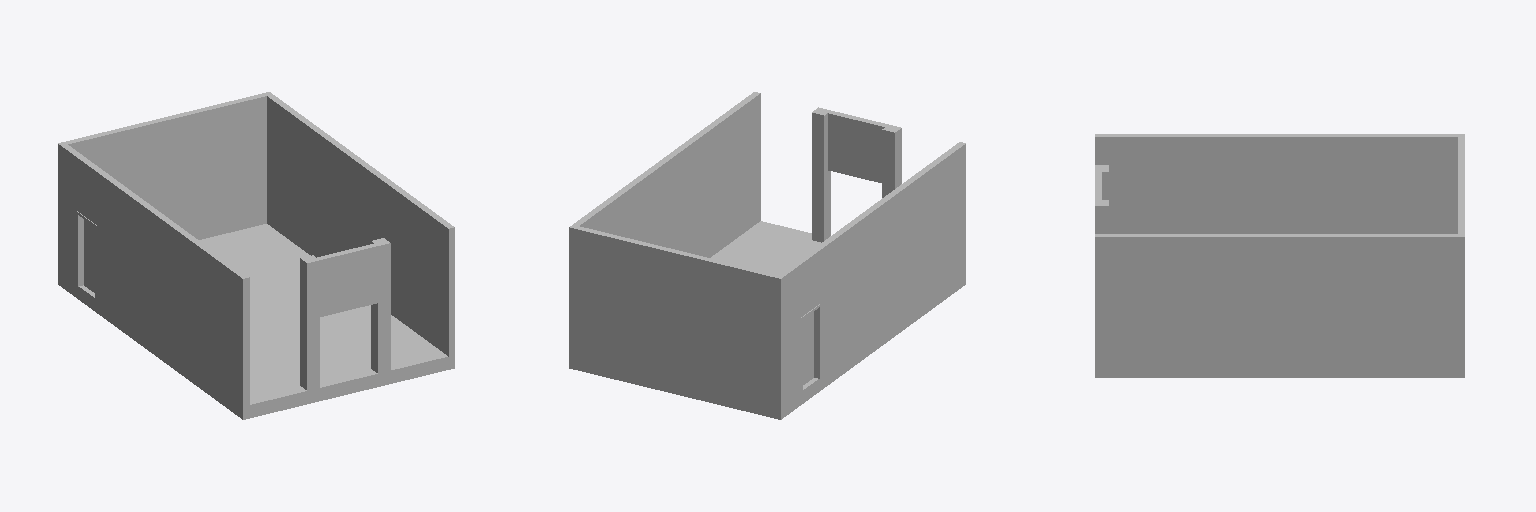
File: Walls-test.obj
3 views of the same model, side by side, from view 1: azimuth 30°, elevation 25°; view 2: azimuth 150°, elevation 25°; view 3: azimuth 270°, elevation 25° (orthographic).
Visible parts, largest first — view 1: Basic_Wall_Generic___200mm__368621_, Basic_Wall_Generic___200mm__368647_, Floor_Generic_Floor___400mm__322617_, Basic_Wall_Generic___200mm__322698_, Basic_Wall_Generic___200mm__324268_, Basic_Wall_Generic___375mm__368629_, Basic_Wall_Generic___375mm__368655_, M_Single_Flush_0915_x_2134mm__371596_; view 2: Basic_Wall_Generic___200mm__322698_, Basic_Wall_Generic___200mm__368621_, Basic_Wall_Generic___200mm__368647_, Floor_Generic_Floor___400mm__322617_, Basic_Wall_Generic___200mm__324268_, Basic_Wall_Generic___375mm__368655_, Basic_Wall_Generic___375mm__368629_, M_Single_Flush_0915_x_2134mm__371596_; view 3: Basic_Wall_Generic___200mm__368647_, Basic_Wall_Generic___200mm__368621_, Floor_Generic_Floor___400mm__322617_, M_Single_Flush_0915_x_2134mm__371596_, Basic_Wall_Generic___200mm__322698_.
Boxes of the visible parts, x1,y1,x2,y2 form: Basic_Wall_Generic___200mm__368621_: [62, 145, 249, 406]; Basic_Wall_Generic___200mm__368647_: [267, 95, 454, 356]; Floor_Generic_Floor___400mm__322617_: [58, 224, 454, 419]; Basic_Wall_Generic___200mm__322698_: [58, 92, 272, 273]; Basic_Wall_Generic___200mm__324268_: [317, 244, 377, 316]; Basic_Wall_Generic___375mm__368629_: [300, 255, 319, 390]; Basic_Wall_Generic___375mm__368655_: [371, 238, 390, 373]; M_Single_Flush_0915_x_2134mm__371596_: [77, 211, 96, 299]; Basic_Wall_Generic___200mm__322698_: [569, 225, 784, 406]; Basic_Wall_Generic___200mm__368621_: [778, 142, 965, 402]; Basic_Wall_Generic___200mm__368647_: [573, 92, 760, 257]; Floor_Generic_Floor___400mm__322617_: [569, 221, 965, 419]; Basic_Wall_Generic___200mm__324268_: [828, 111, 888, 182]; Basic_Wall_Generic___375mm__368655_: [812, 107, 830, 242]; Basic_Wall_Generic___375mm__368629_: [882, 125, 901, 197]; M_Single_Flush_0915_x_2134mm__371596_: [801, 304, 820, 391]; Basic_Wall_Generic___200mm__368647_: [1095, 234, 1457, 364]; Basic_Wall_Generic___200mm__368621_: [1095, 134, 1457, 233]; Floor_Generic_Floor___400mm__322617_: [1095, 365, 1464, 377]; M_Single_Flush_0915_x_2134mm__371596_: [1386, 191, 1425, 233]; Basic_Wall_Generic___200mm__322698_: [1458, 134, 1464, 364].
Size of the model in its own units: 6625 by 4200 by 10000.